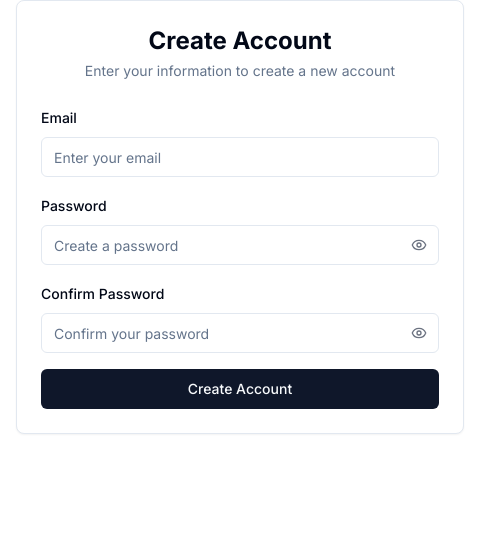
Test: RegisterForm › shows password requirements checklist
The image size is (481, 559).
Type "P" into the password field labelled "Password" at [240, 245], box [41,225,439,265]
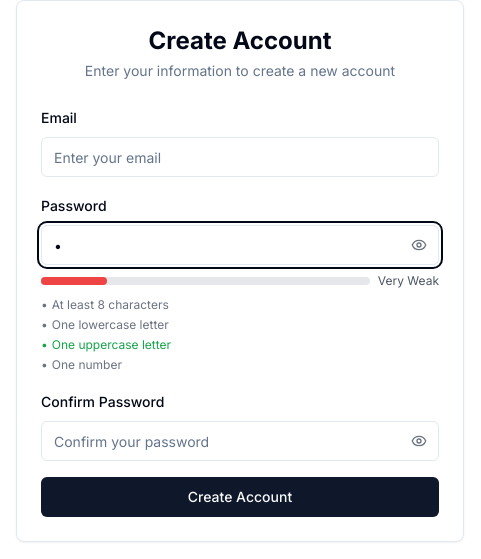
Now the text "At least 8 characters" is shown, box [52,297,169,313]
Now the text "One lowercase letter" is shown, box [52,317,169,333]
Now the text "One uppercase letter" is shown, box [52,337,171,353]
